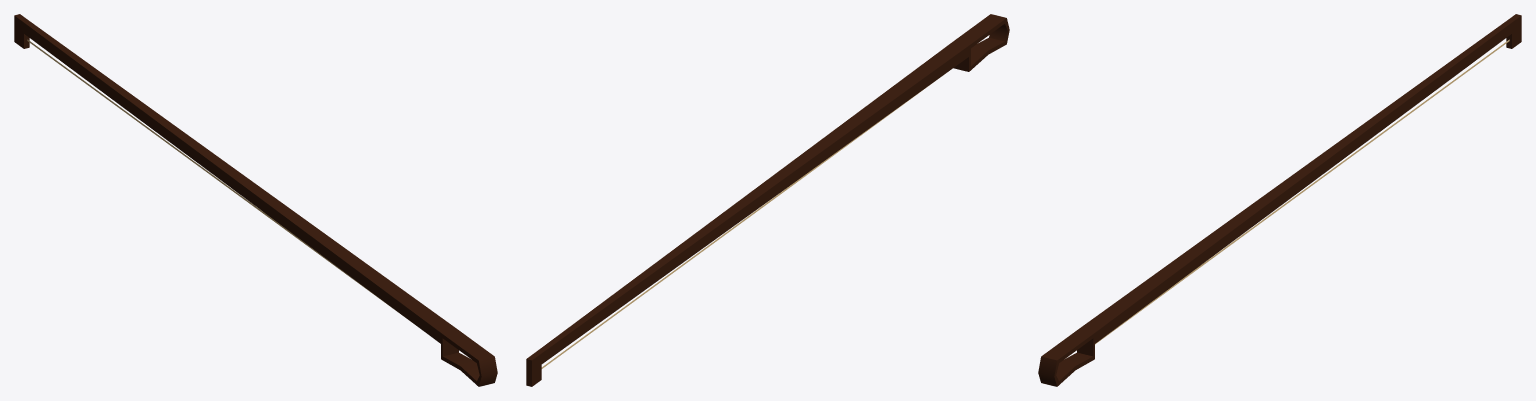
Rendered from BowPrototypeModel.FBX.
3 views of the same model, side by side, from view 1: azimuth 30°, elevation 25°; view 2: azimuth 150°, elevation 25°; view 3: azimuth 330°, elevation 25° (orthographic).
Visible parts, largest first — view 1: Box007; view 2: Box007; view 3: Box007.
Part boxes in pixels (box(x1,y1,x2,y2)): Box007: box(14, 14, 497, 386); Box007: box(526, 14, 1009, 386); Box007: box(1038, 14, 1521, 386).
Bounding box in the file's own units: 0.0596 × 0.0936 × 3.02.
